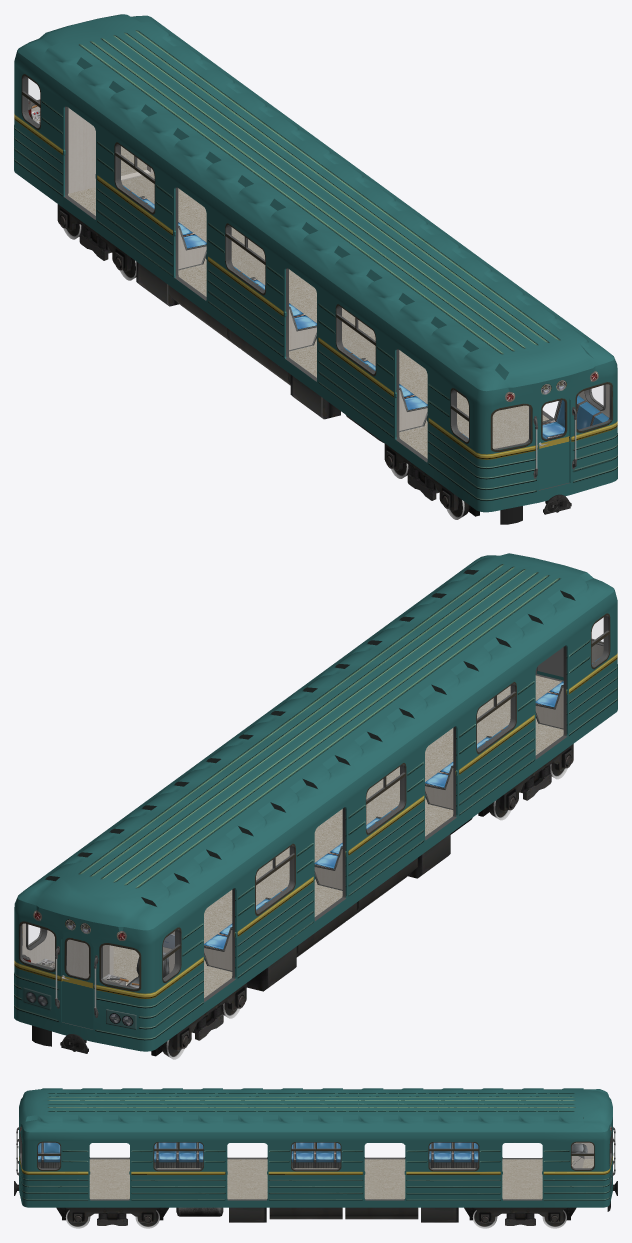
Rendered from SubwayTrain05_Body1.FBX.
3 renders of one model, top to bottom at view 1: azimuth 30°, elevation 25°; view 2: azimuth 150°, elevation 25°; view 3: azimuth 270°, elevation 25°, orthographic. The views are drawn at different scales.
Visible parts, largest first — view 1: SubwayTrain05_Roof, SubwayTrain05_Body1, SubwayTrain05_Inter, SubwayTrain05_Wheels, SubwayTrain_Bench02c, SubwayTrain05_InterEnter, SubwayTrain_Bench02c1, SubwayTrain05_DoorF1; view 2: SubwayTrain05_Roof, SubwayTrain05_Body1, SubwayTrain05_Inter, SubwayTrain05_Wheels, SubwayTrain_Bench02c1, SubwayTrain05_DoorF2, SubwayTrain_Bench02c, SubwayTrain05_InterEnter, SubwayTrain05_Inter2; view 3: SubwayTrain05_Body1, SubwayTrain05_Roof, SubwayTrain05_Inter, SubwayTrain05_Wheels, SubwayTrain_Bench02c, SubwayTrain05_Inter2.
Boxes of the visible parts, box(x1,y1,x2,y2) form: SubwayTrain05_Roof: box(17, 14, 614, 391); SubwayTrain05_Body1: box(14, 50, 617, 512); SubwayTrain05_Inter: box(22, 76, 611, 490); SubwayTrain05_Wheels: box(57, 204, 571, 524); SubwayTrain_Bench02c: box(123, 185, 608, 438); SubwayTrain05_InterEnter: box(68, 107, 153, 193); SubwayTrain_Bench02c1: box(139, 196, 559, 431); SubwayTrain05_DoorF1: box(538, 396, 569, 489); SubwayTrain05_Roof: box(17, 553, 614, 930); SubwayTrain05_Body1: box(14, 590, 617, 1051); SubwayTrain05_Inter: box(20, 615, 609, 1029); SubwayTrain05_Wheels: box(32, 744, 573, 1059); SubwayTrain_Bench02c1: box(204, 685, 563, 971); SubwayTrain05_DoorF2: box(61, 935, 93, 1029); SubwayTrain_Bench02c: box(204, 658, 599, 949); SubwayTrain05_InterEnter: box(66, 931, 174, 985); SubwayTrain05_Inter2: box(22, 924, 174, 1017); SubwayTrain05_Body1: box(19, 1117, 612, 1207); SubwayTrain05_Roof: box(19, 1088, 612, 1132); SubwayTrain05_Inter: box(19, 1133, 612, 1200); SubwayTrain05_Wheels: box(14, 1181, 617, 1228); SubwayTrain_Bench02c: box(38, 1142, 478, 1168); SubwayTrain05_Inter2: box(16, 1127, 615, 1176).
Bounding box in the file's own units: 4082 × 4898 × 24396.
